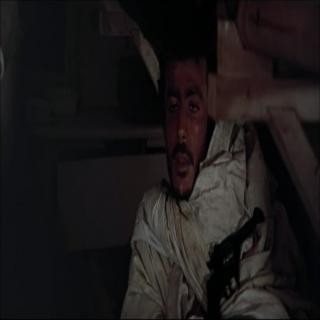gun: (196, 205, 262, 319)
